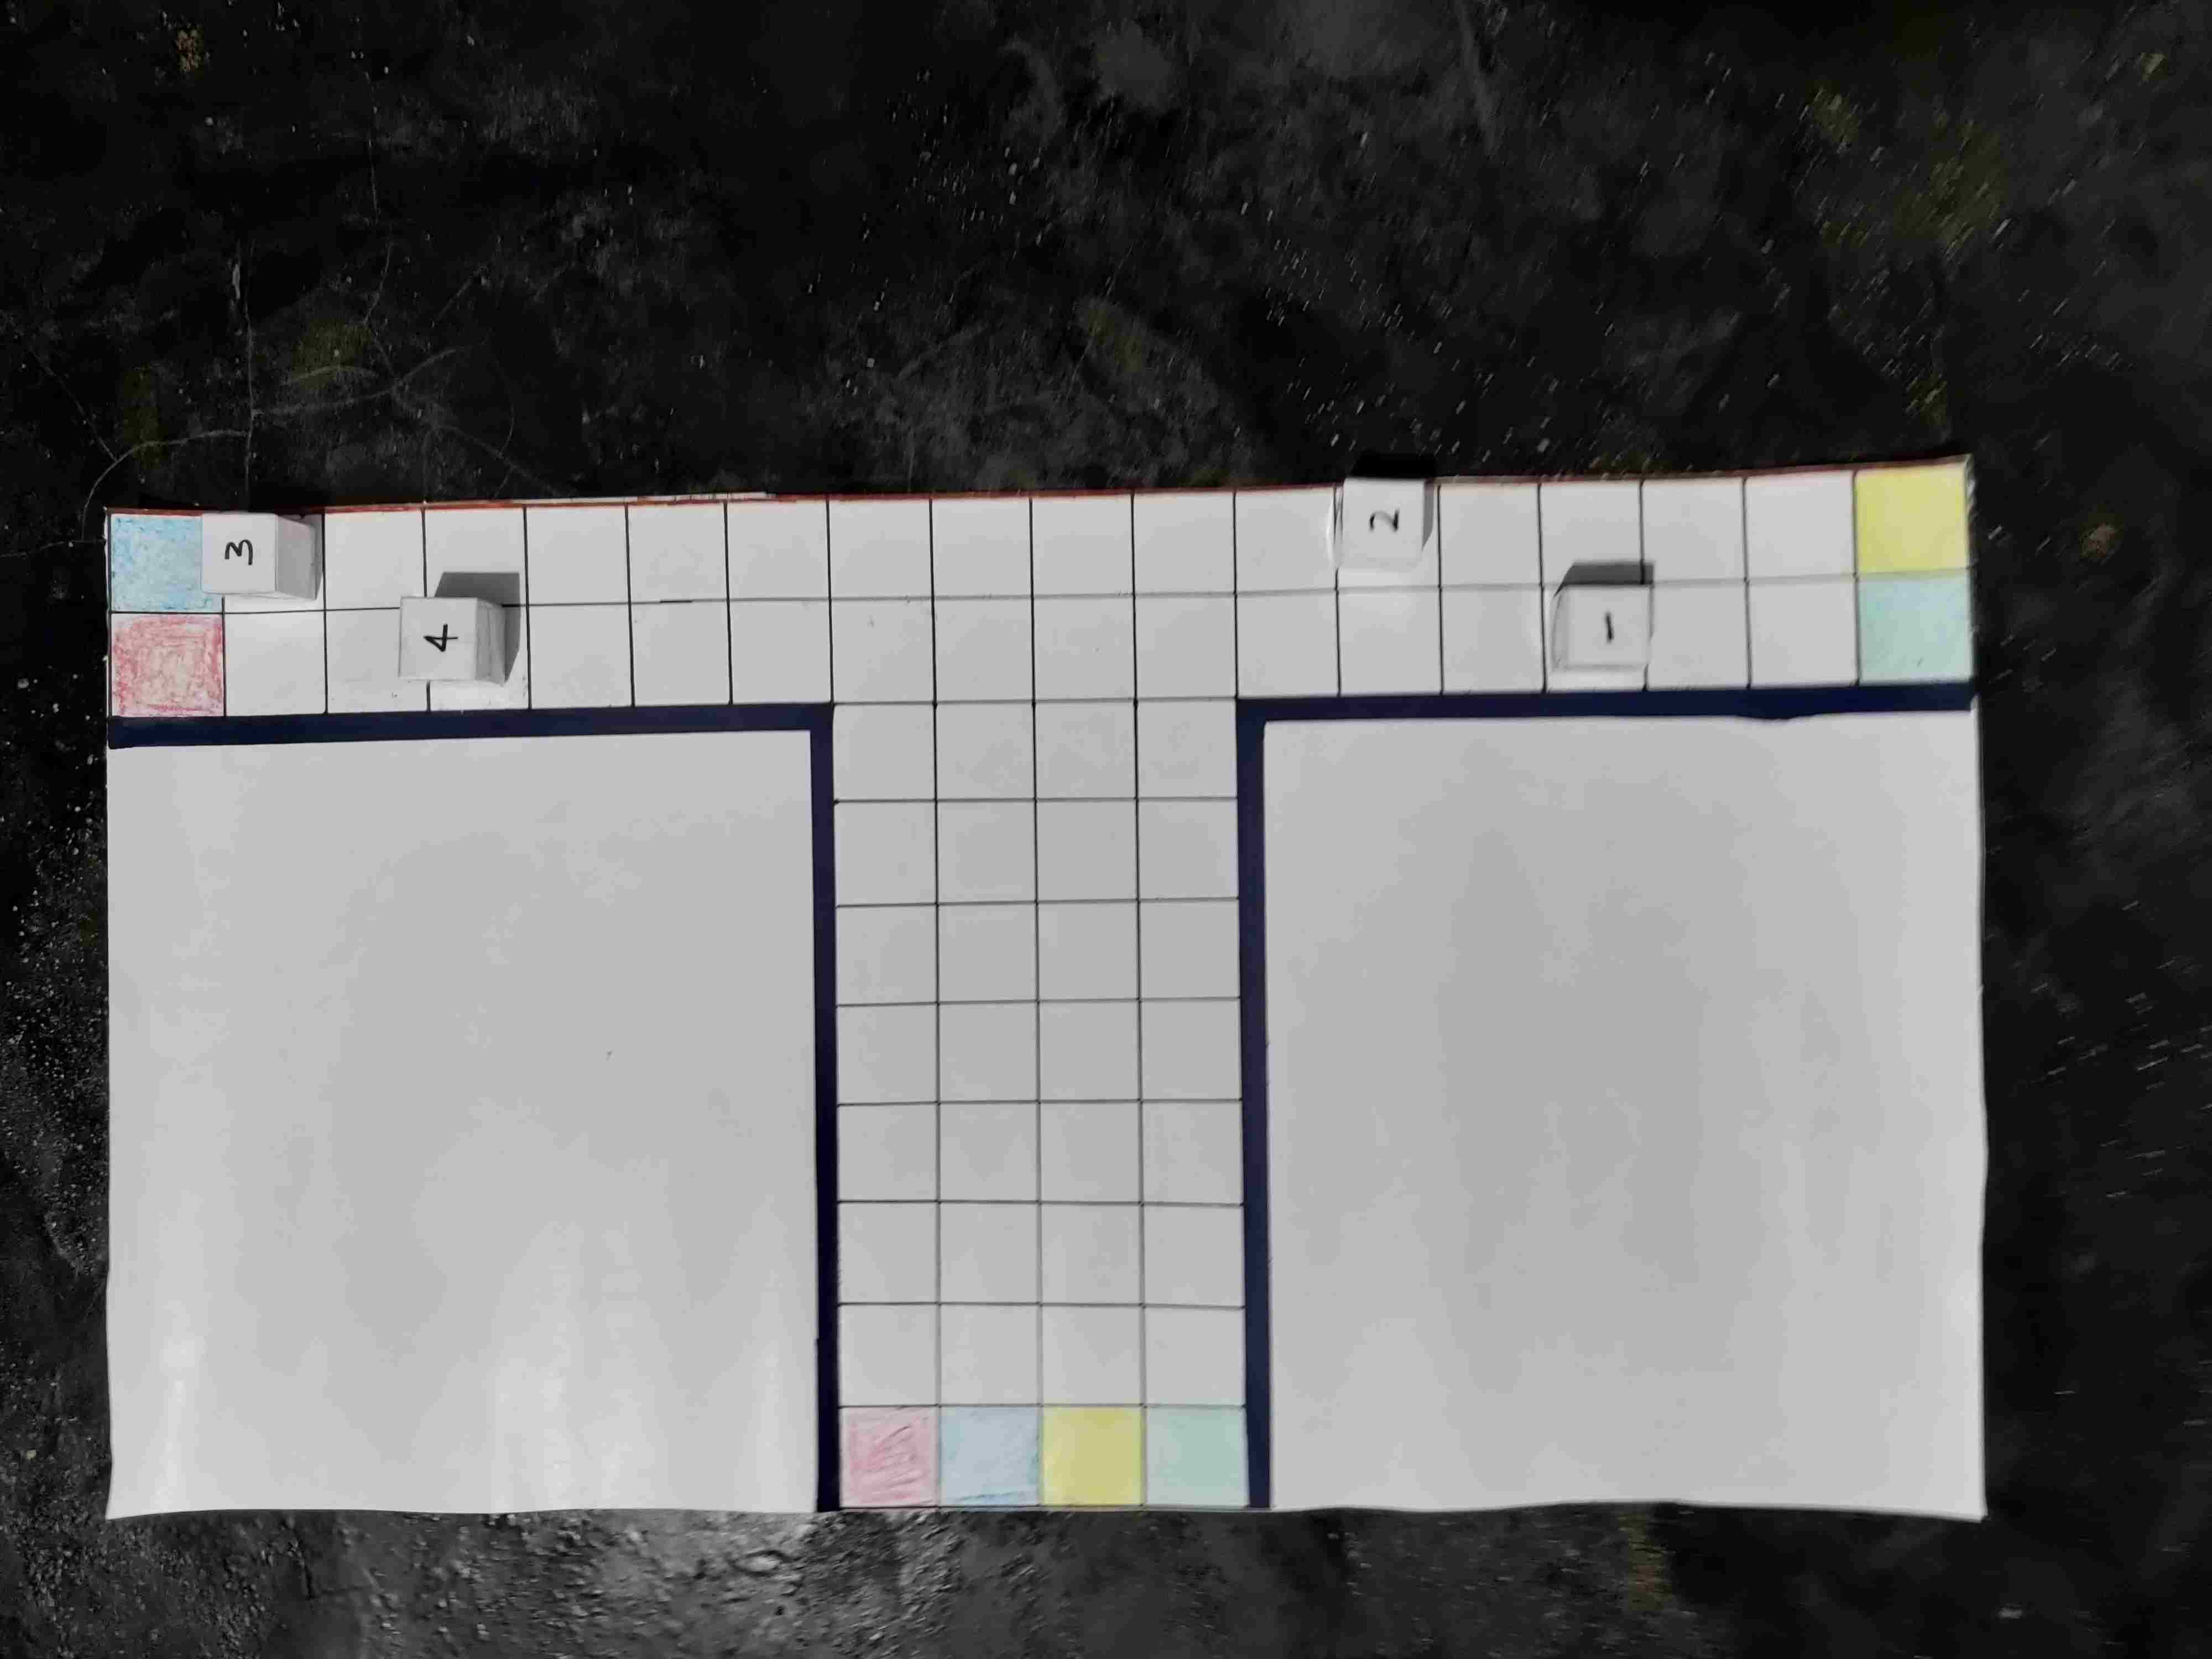arena: (111, 453, 1989, 1516)
bot: (1341, 474, 1423, 568), (1568, 579, 1649, 671), (204, 512, 272, 594), (395, 599, 475, 655)
